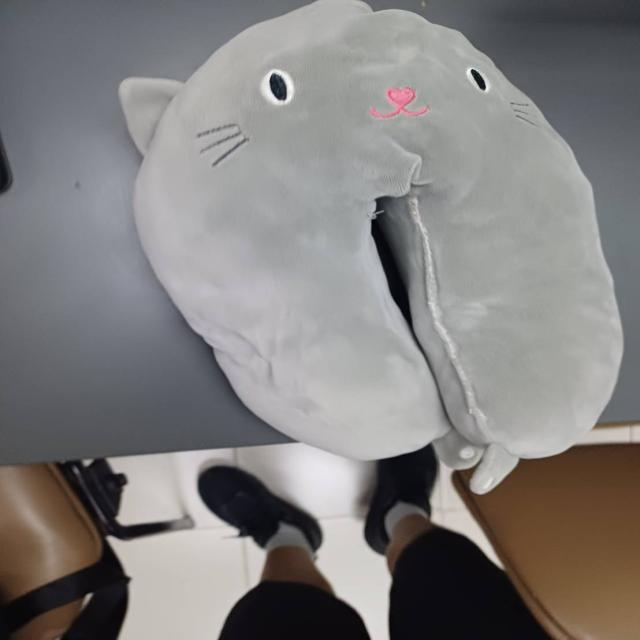pillow: (108, 1, 630, 498)
